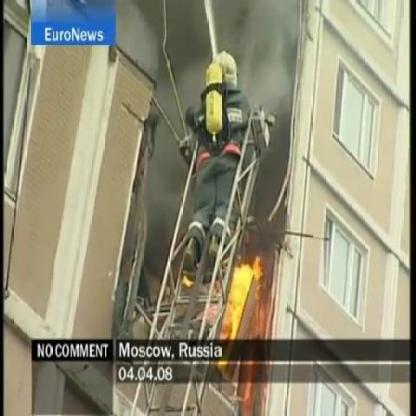fire: (222, 250, 264, 338), (180, 273, 195, 290)
